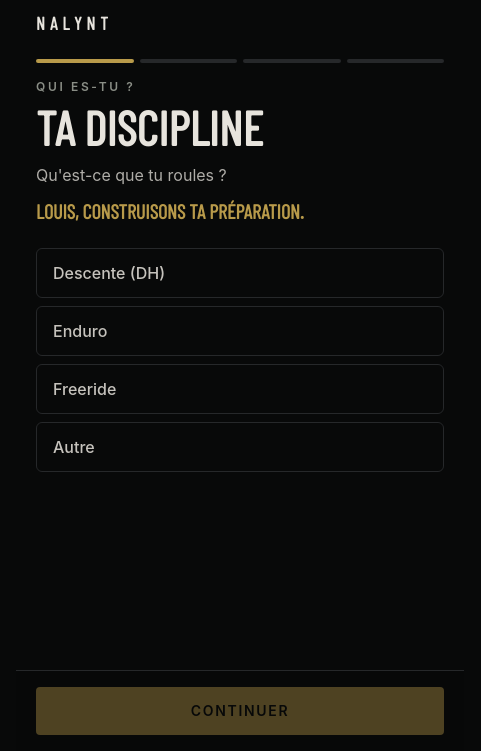
Test: AthleteOnboarding — one question per screen (UX-09) › a failed save shows an error and does not move on
Expected: the heading reads "Ta discipline", [36,98,263,156]
Click the button "Descente (DH)" at (109, 273), box [36,248,444,298]
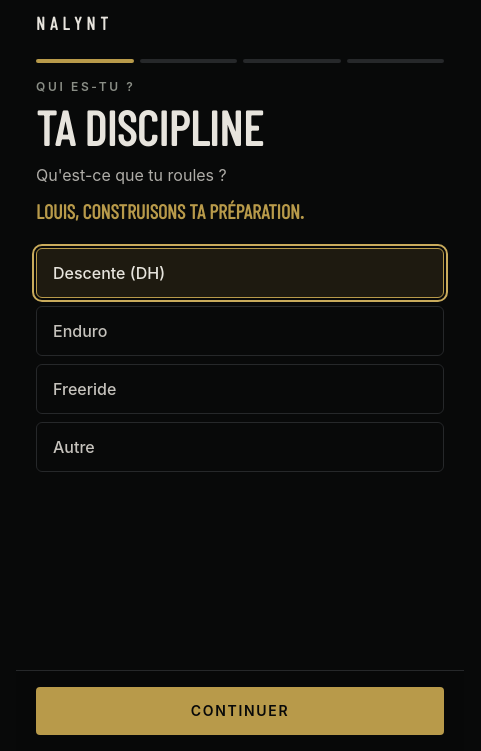
Click the button "Continuer" at (240, 711), box [36,687,444,735]
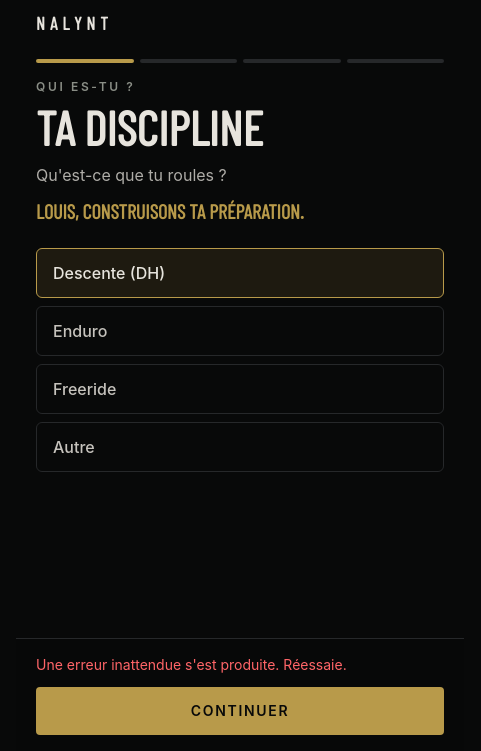
Expected: the heading reads "Ta discipline", [36,98,263,156]
Now the message "Une erreur inattendue s'est produite. Réessaie." is shown, box [36,656,347,673]
